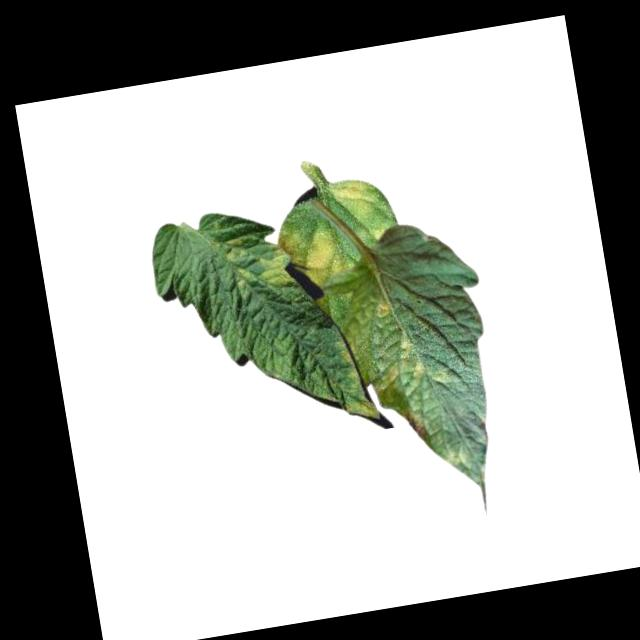Leaf_Mold: (280, 227, 356, 296), (226, 243, 294, 294), (376, 326, 430, 389), (326, 176, 377, 223), (400, 404, 430, 450), (370, 297, 392, 321)
